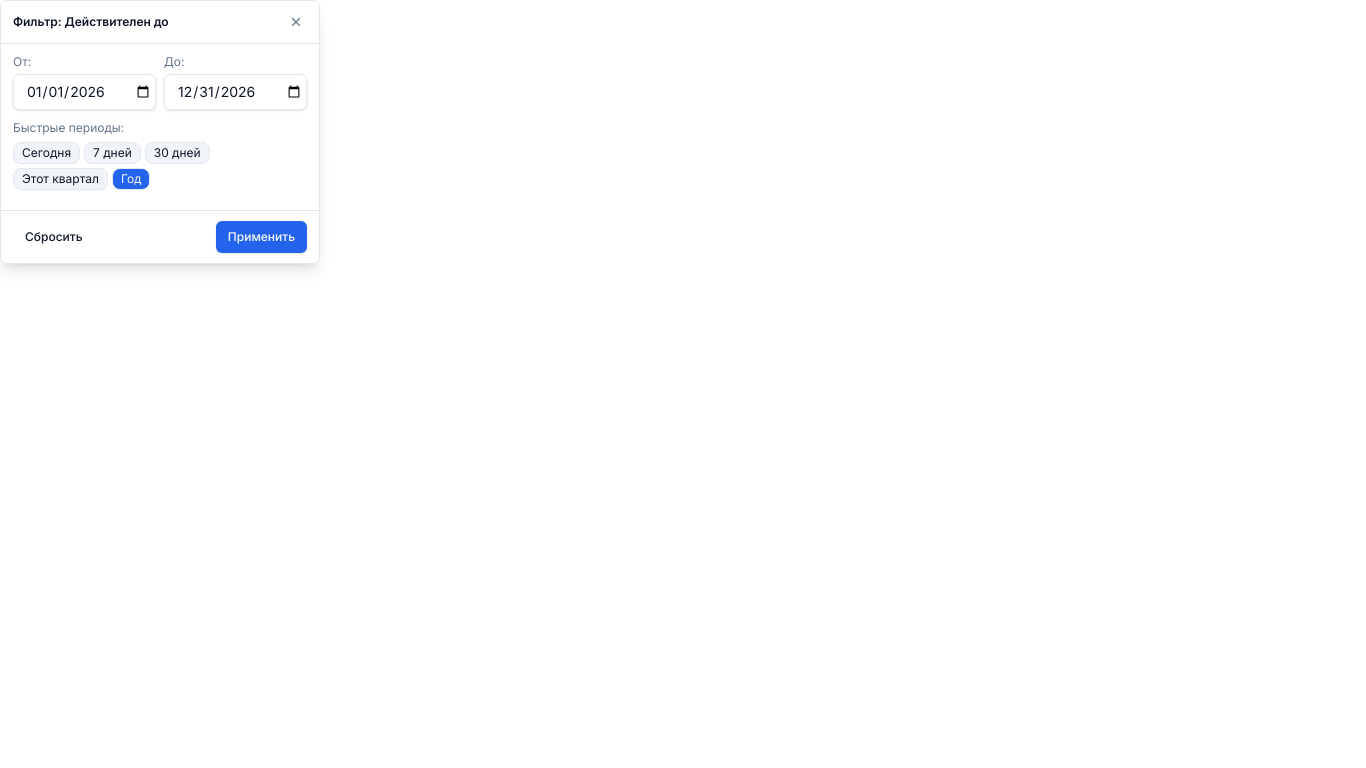
DateFilterPopover — system-range › resets from/to to empty on Сбросить
The image size is (1366, 768).
Step 1. Click the button "Сбросить" → [54, 237], box 13,221 -> 94,253
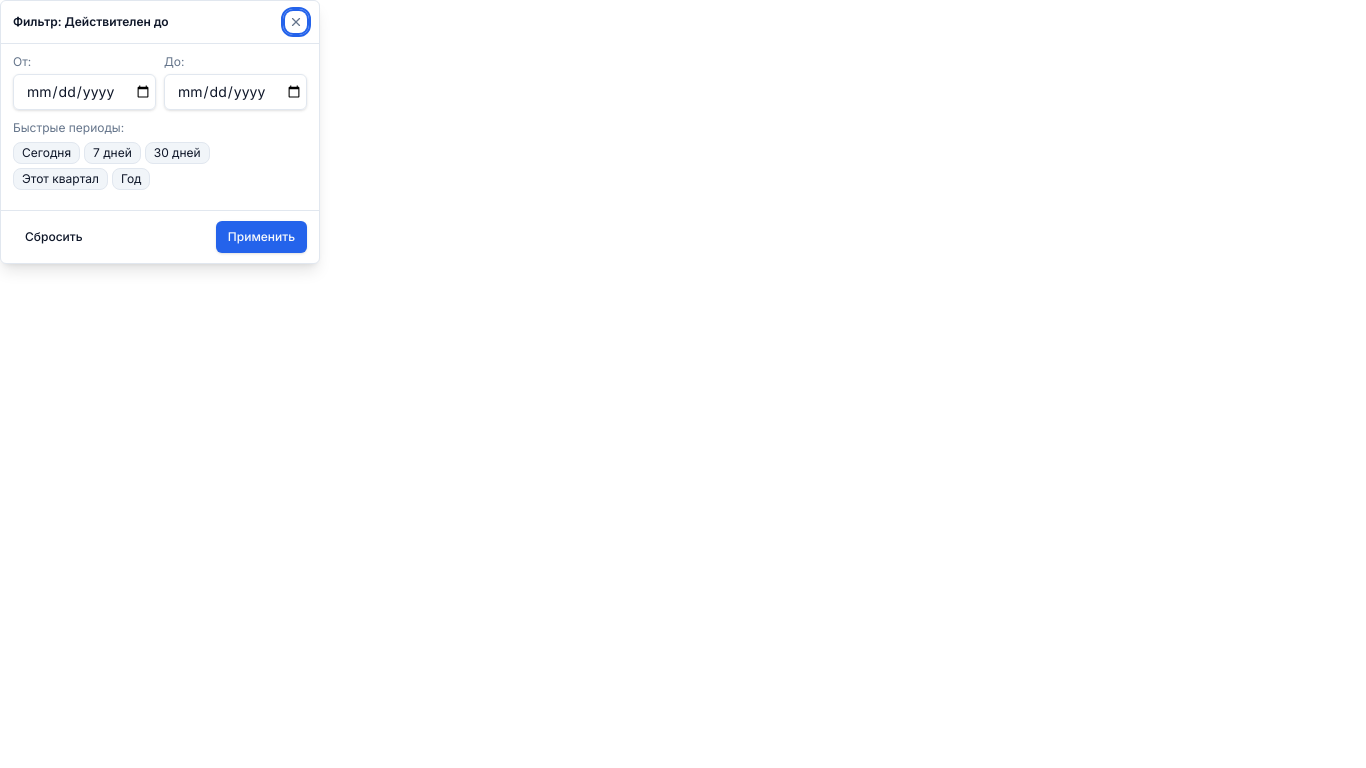
Now the date field with id "date-from-expiry_date" is empty, box 13,74 -> 156,110
Now the date field with id "date-to-expiry_date" is empty, box 164,74 -> 307,110
